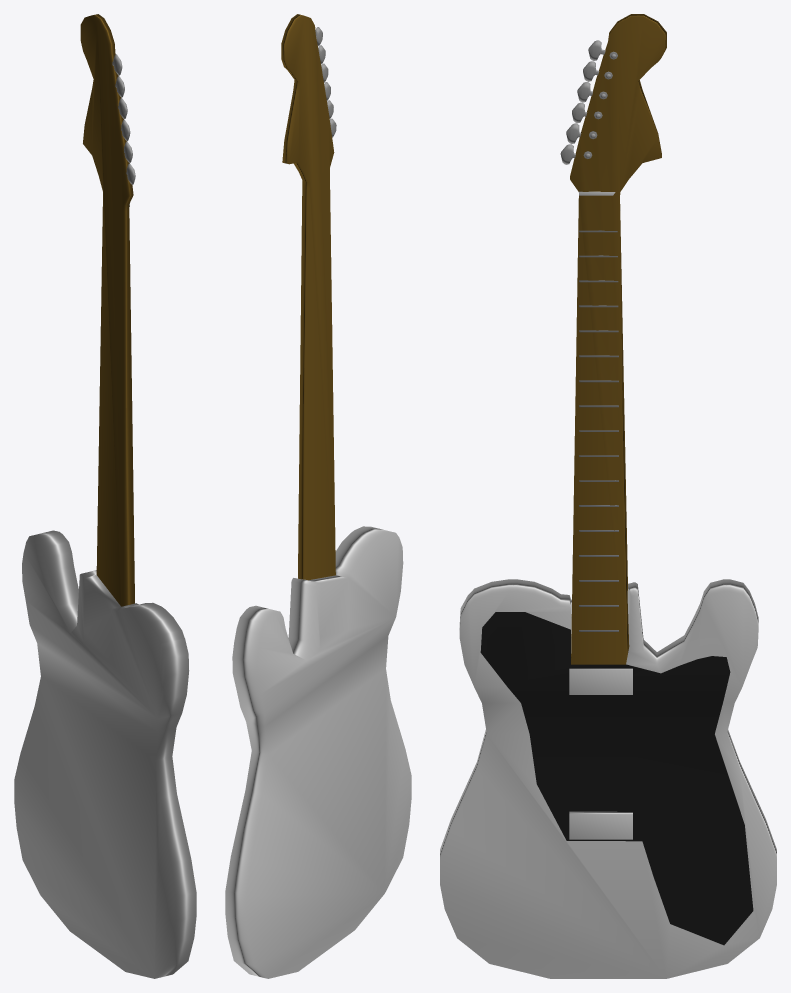
File: Guitare.fbx
The picture shows the model from 3 angles, left to right: view 1: azimuth 30°, elevation 25°; view 2: azimuth 150°, elevation 25°; view 3: azimuth 270°, elevation 25°; orthographic projection. The views are drawn at different scales.
Parts seen in each view (by area): view 1: Guitare, Manche; view 2: Guitare, Manche; view 3: Guitare, Manche.
Part boxes in pixels (<box>): Guitare: <box>14,54,196,978</box>; Manche: <box>80,14,134,606</box>; Guitare: <box>225,27,411,978</box>; Manche: <box>281,14,335,580</box>; Guitare: <box>440,40,776,978</box>; Manche: <box>570,14,666,664</box>.
Bounding box in the file's own units: 34.65 × 1137 × 361.
